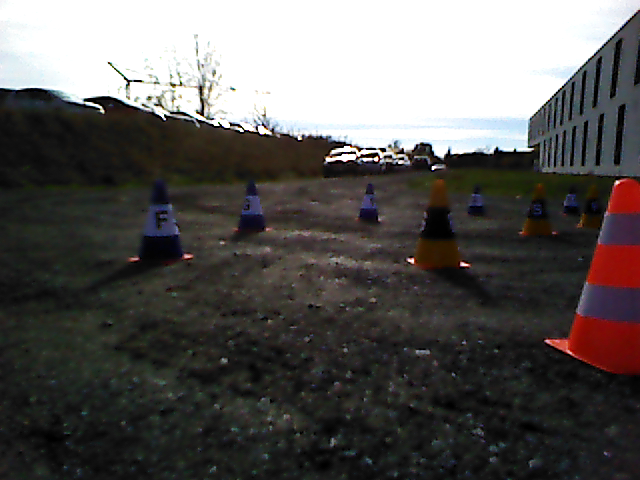bluecone: (140, 180, 179, 259), (239, 183, 264, 229), (360, 184, 377, 220), (467, 185, 486, 216), (563, 183, 582, 212)
orangeconesmall: (572, 179, 640, 365)
yellowcone: (415, 178, 459, 263), (524, 185, 552, 231), (581, 185, 601, 225)
